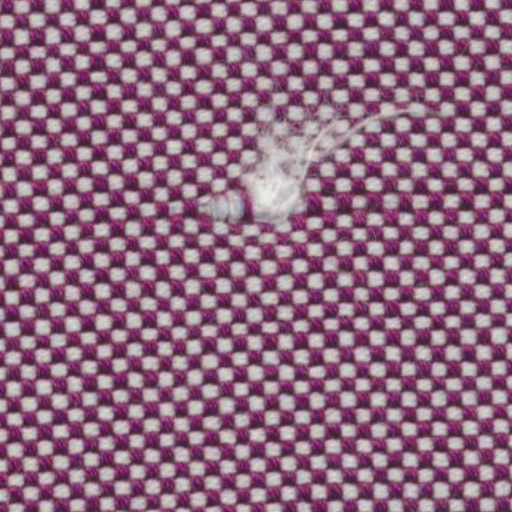DuanSha: (164, 94, 426, 246)
